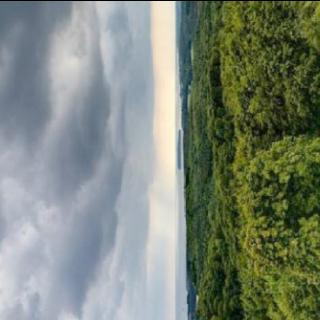Nimbostratus: (0, 0, 178, 320)
